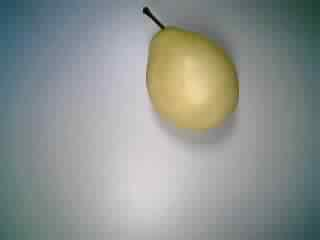pear: (135, 2, 243, 144)
